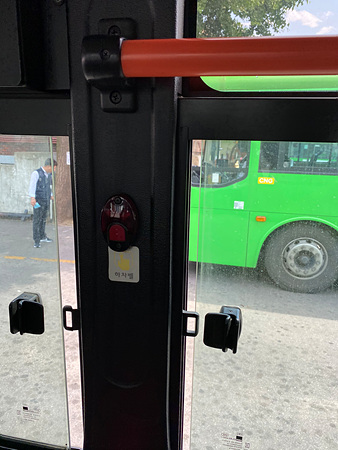bell: (99, 195, 139, 251)
